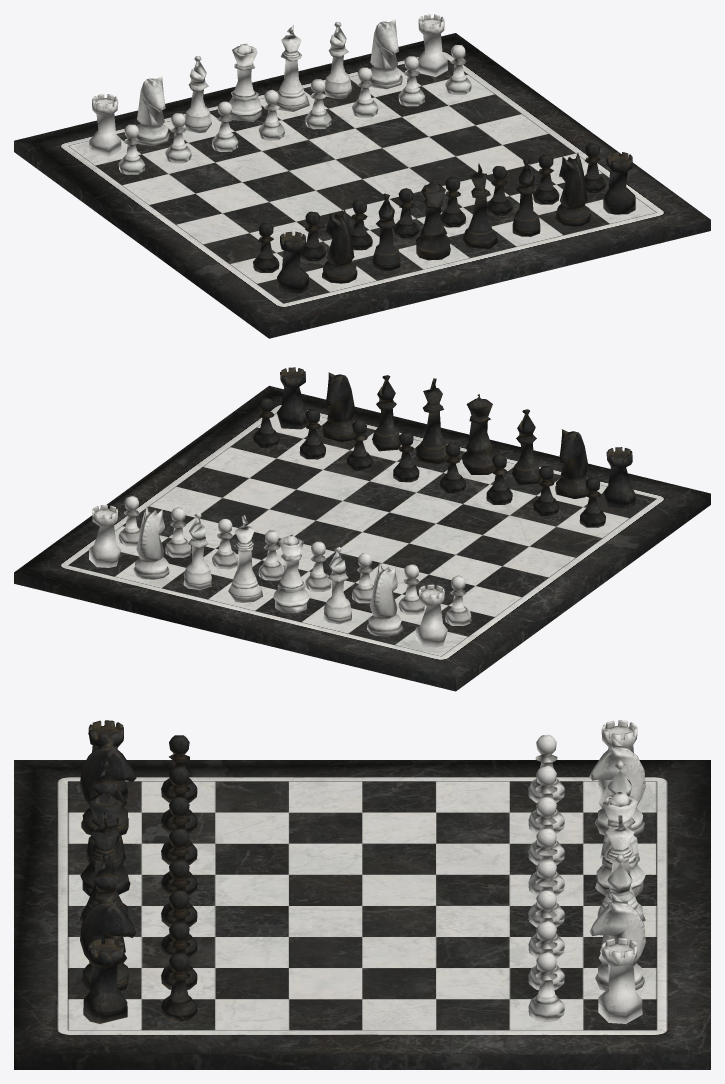
The model's file is chess-board.glb.
The picture shows the model from 3 angles, top to bottom: view 1: azimuth 30°, elevation 25°; view 2: azimuth 150°, elevation 25°; view 3: azimuth 270°, elevation 25°; orthographic projection. The views are drawn at different scales.
Visible parts, largest first — view 1: board, piece_queen_black, piece_knight_black_01, piece_knight_black_02, piece_knight_white_02, piece_knight_white_01, piece_queen_white, piece_king_white, piece_king_black, piece_rook_black_02, piece_rook_black_01, piece_rook_white_02 (+21 smaller); view 2: board, piece_queen_white, piece_queen_black, piece_knight_white_01, piece_knight_white_02, piece_knight_black_02, piece_knight_black_01, piece_king_white, piece_king_black, piece_rook_black_01, piece_rook_white_02, piece_rook_white_01 (+21 smaller); view 3: board, piece_rook_black_02, piece_rook_white_01, piece_knight_white_01, piece_knight_black_02, piece_knight_white_02, piece_knight_black_01, piece_queen_white, piece_queen_black, piece_pawn_white_01, piece_pawn_black_08, piece_king_black (+21 smaller).
Part boxes in pixels (box(x1,y1,x2,y2)): board: box(14, 33, 710, 338); piece_queen_black: box(416, 179, 451, 260); piece_knight_black_01: box(322, 209, 357, 283); piece_knight_black_02: box(555, 152, 590, 226); piece_knight_white_02: box(136, 76, 169, 145); piece_knight_white_01: box(369, 19, 402, 89); piece_queen_white: box(229, 43, 261, 121); piece_king_white: box(276, 25, 309, 111); piece_king_black: box(462, 163, 498, 248); piece_rook_black_02: box(603, 152, 635, 214); piece_rook_black_01: box(276, 231, 309, 293); piece_rook_white_02: box(89, 94, 121, 156); board: box(14, 385, 710, 691); piece_queen_white: box(273, 534, 309, 613); piece_queen_black: box(461, 394, 496, 474); piece_knight_white_01: box(133, 505, 169, 579); piece_knight_white_02: box(367, 562, 402, 636); piece_knight_black_02: box(322, 372, 354, 442); piece_knight_black_01: box(555, 429, 588, 498); piece_king_white: box(228, 515, 263, 602); piece_king_black: box(415, 378, 448, 464); piece_rook_black_01: box(603, 447, 635, 508); piece_rook_white_02: box(415, 584, 447, 647); piece_rook_white_01: box(89, 505, 121, 567); board: box(14, 760, 710, 1069); piece_rook_black_02: box(83, 938, 127, 1023); piece_rook_white_01: box(598, 938, 642, 1023); piece_knight_white_01: box(589, 892, 645, 990); piece_knight_black_02: box(80, 893, 136, 990); piece_knight_white_02: box(589, 737, 645, 835); piece_knight_black_01: box(80, 738, 136, 835); piece_queen_white: box(595, 792, 645, 896); piece_queen_black: box(80, 790, 130, 896); piece_pawn_white_01: box(528, 952, 564, 1021); piece_pawn_black_08: box(161, 953, 197, 1021); piece_king_black: box(79, 812, 128, 922).
Size of the model in its own units: 0.5482 by 0.1092 by 0.5482.
Materials: 3 (3 with a texture image).
